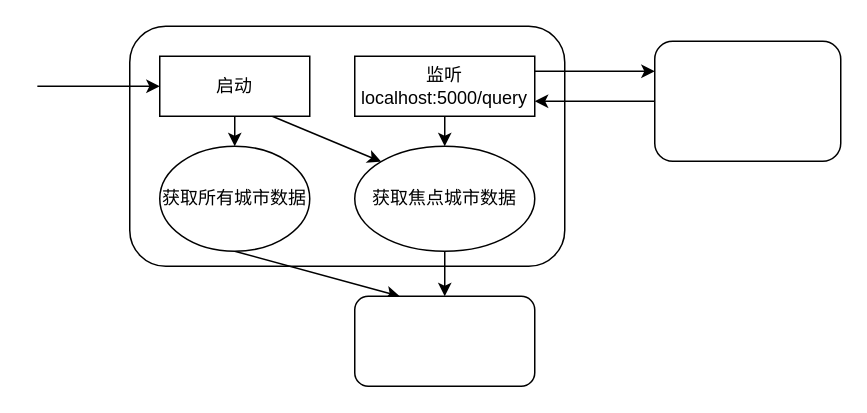
The diagram is 867 pixels wide and 413 high, and some of its shapes have lost their labels. Here are the shapes that lost their labels. From the top down, the centre of each, then its label:
At pixel 747 100: "前端".
At pixel 444 340: "Spider".
